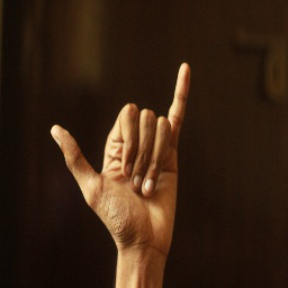J: (46, 63, 198, 243)
